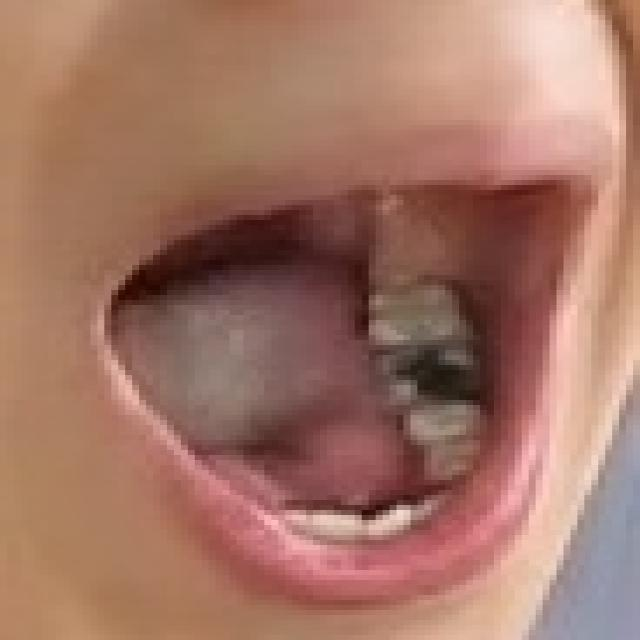open-mouth: (91, 165, 598, 600)
